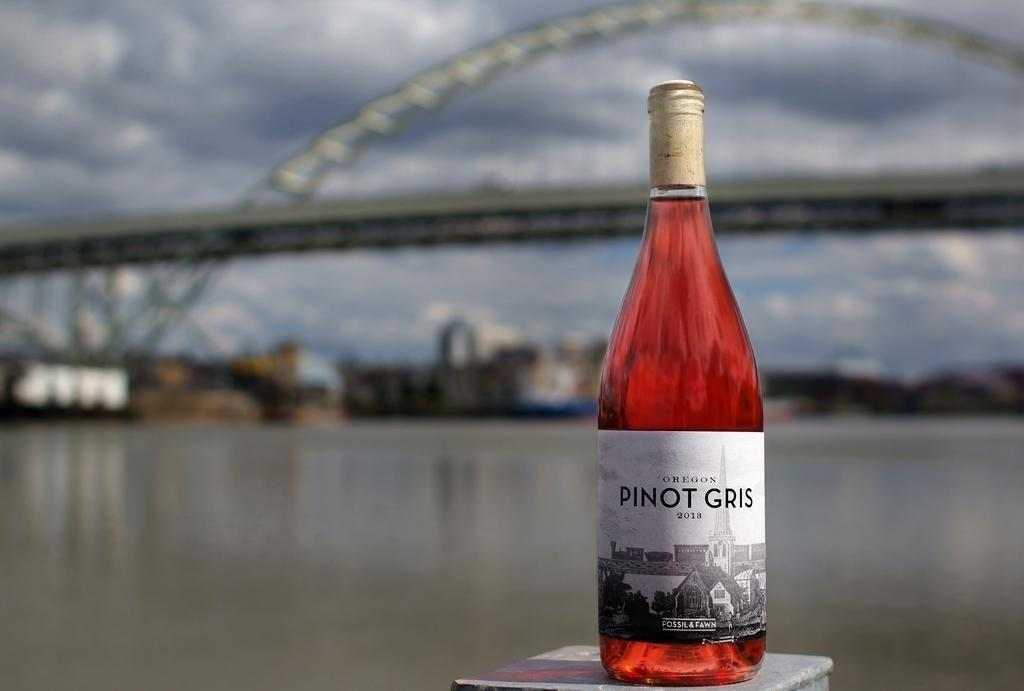bottle-glass: (590, 79, 771, 688)
